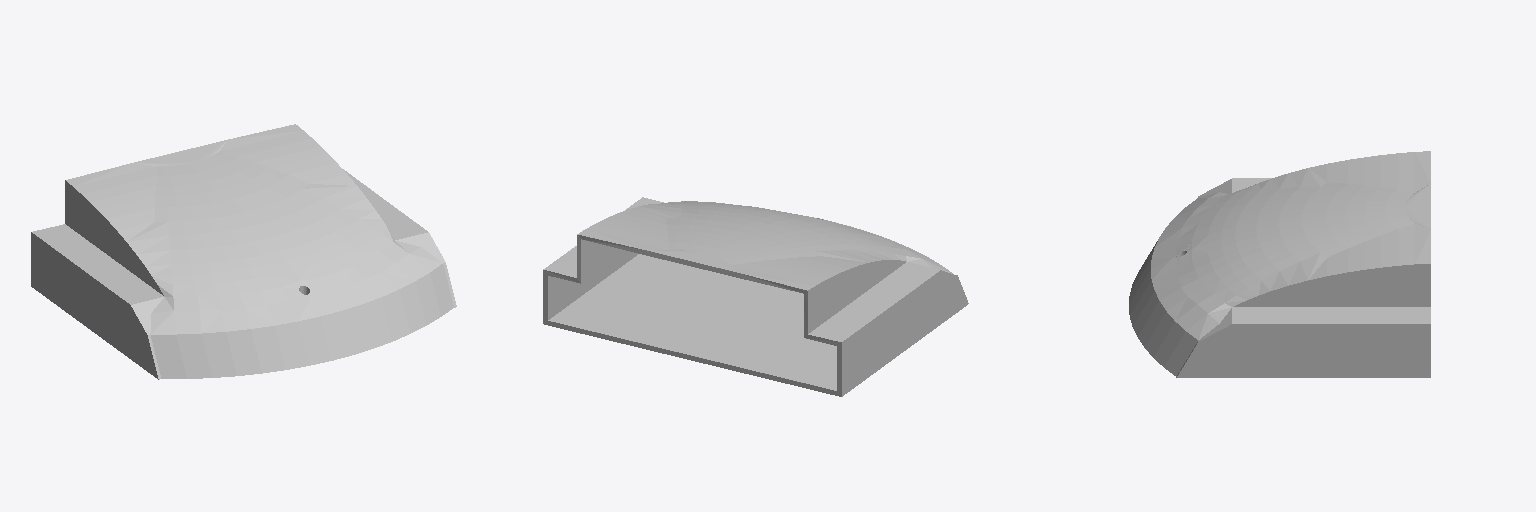
File: InternalMantaResinCase_20221208.obj
3 views of the same model, side by side, from view 1: azimuth 30°, elevation 25°; view 2: azimuth 150°, elevation 25°; view 3: azimuth 270°, elevation 25° (orthographic).
Parts seen in each view (by area): view 1: polySurface1491 Tadpole_Mk001_Group2; view 2: polySurface1491 Tadpole_Mk001_Group2; view 3: polySurface1491 Tadpole_Mk001_Group2.
Part boxes in pixels (left/top/right/bottom): polySurface1491 Tadpole_Mk001_Group2: left=31, top=124, right=456, bottom=379; polySurface1491 Tadpole_Mk001_Group2: left=543, top=197, right=968, bottom=396; polySurface1491 Tadpole_Mk001_Group2: left=1129, top=151, right=1430, bottom=377.
Size of the model in its own units: 63.49 by 20.16 by 55.8.